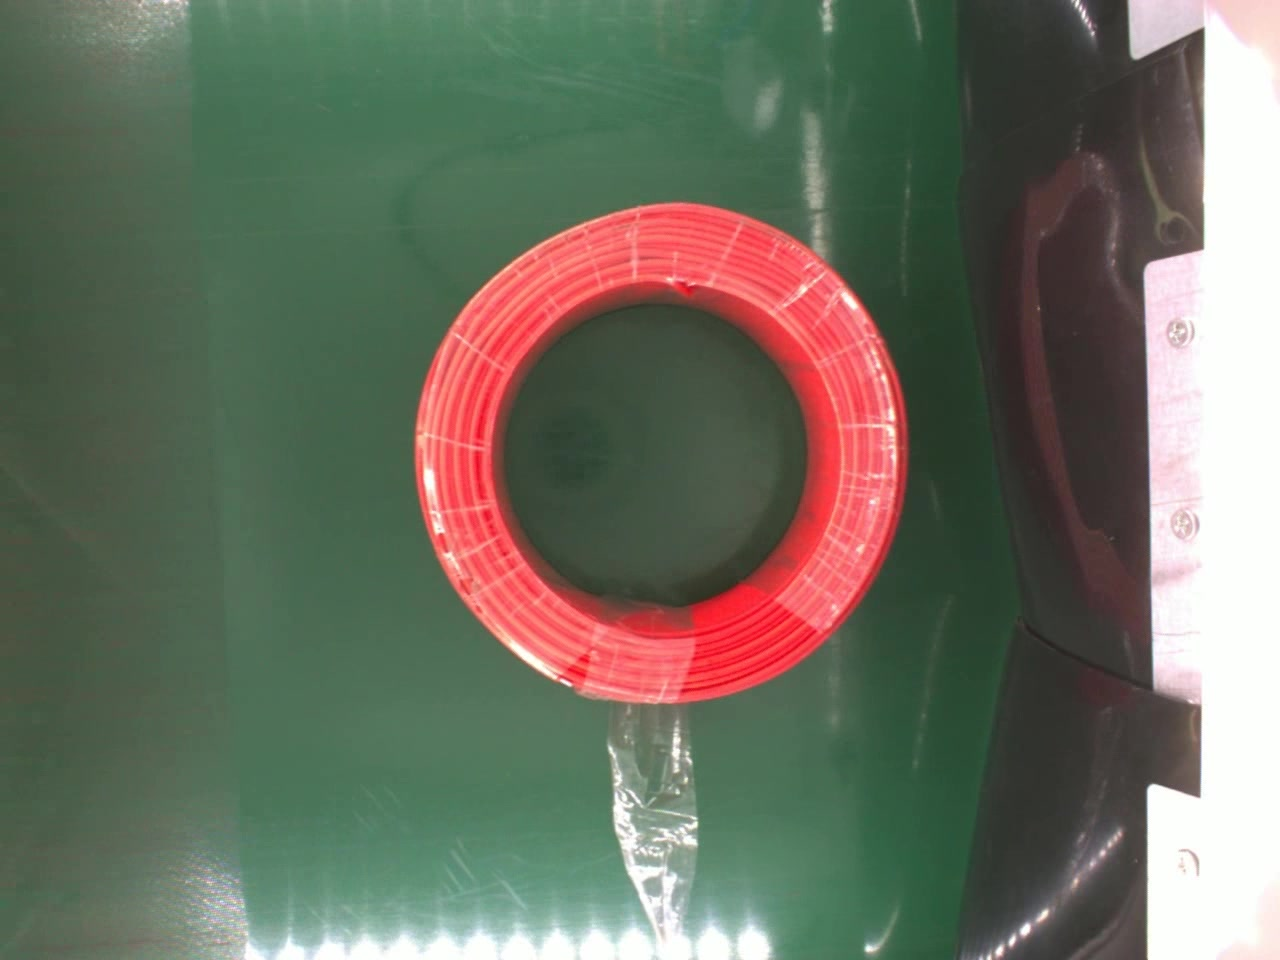red: (408, 196, 909, 707)
